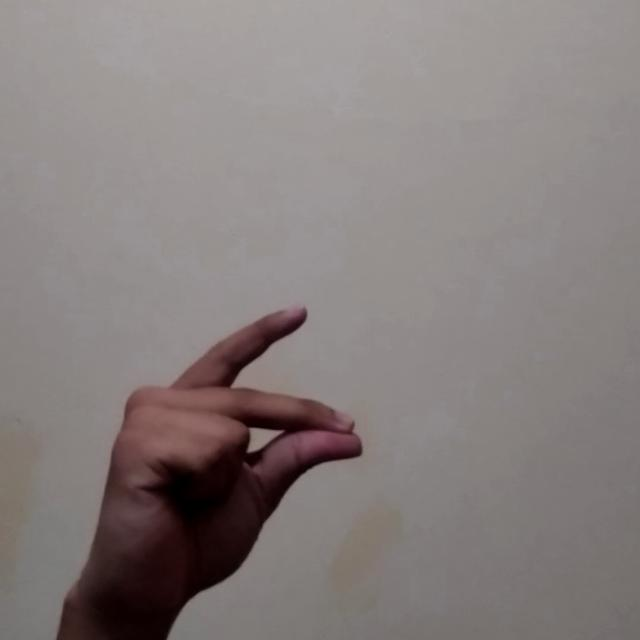R: (74, 287, 371, 593)
